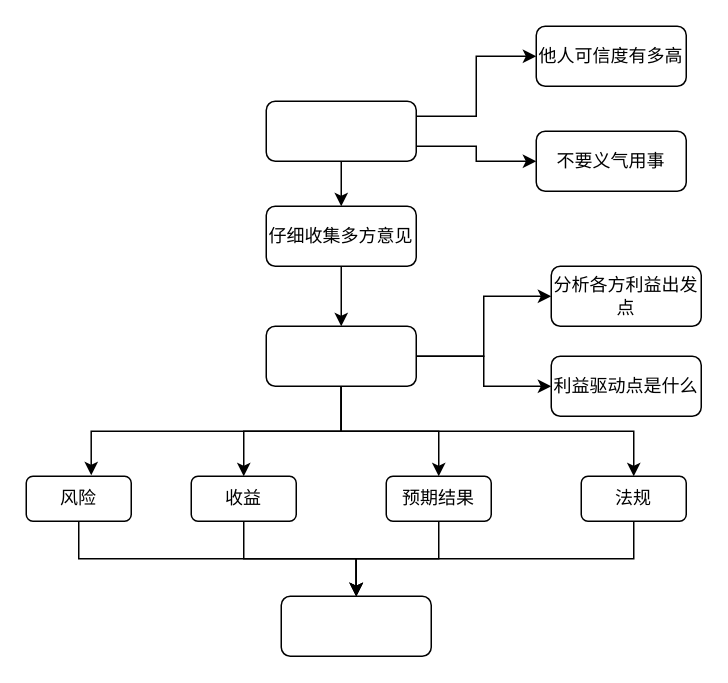
Some shapes in this 728 by 683 pixel diagram are drawn without their labels. The centre of each missing label's shape, as x and y in pixels:
"决策" goes at [340,130].
"实施中的监控与调整" goes at [355,625].
"平衡各方利益" goes at [340,355].
